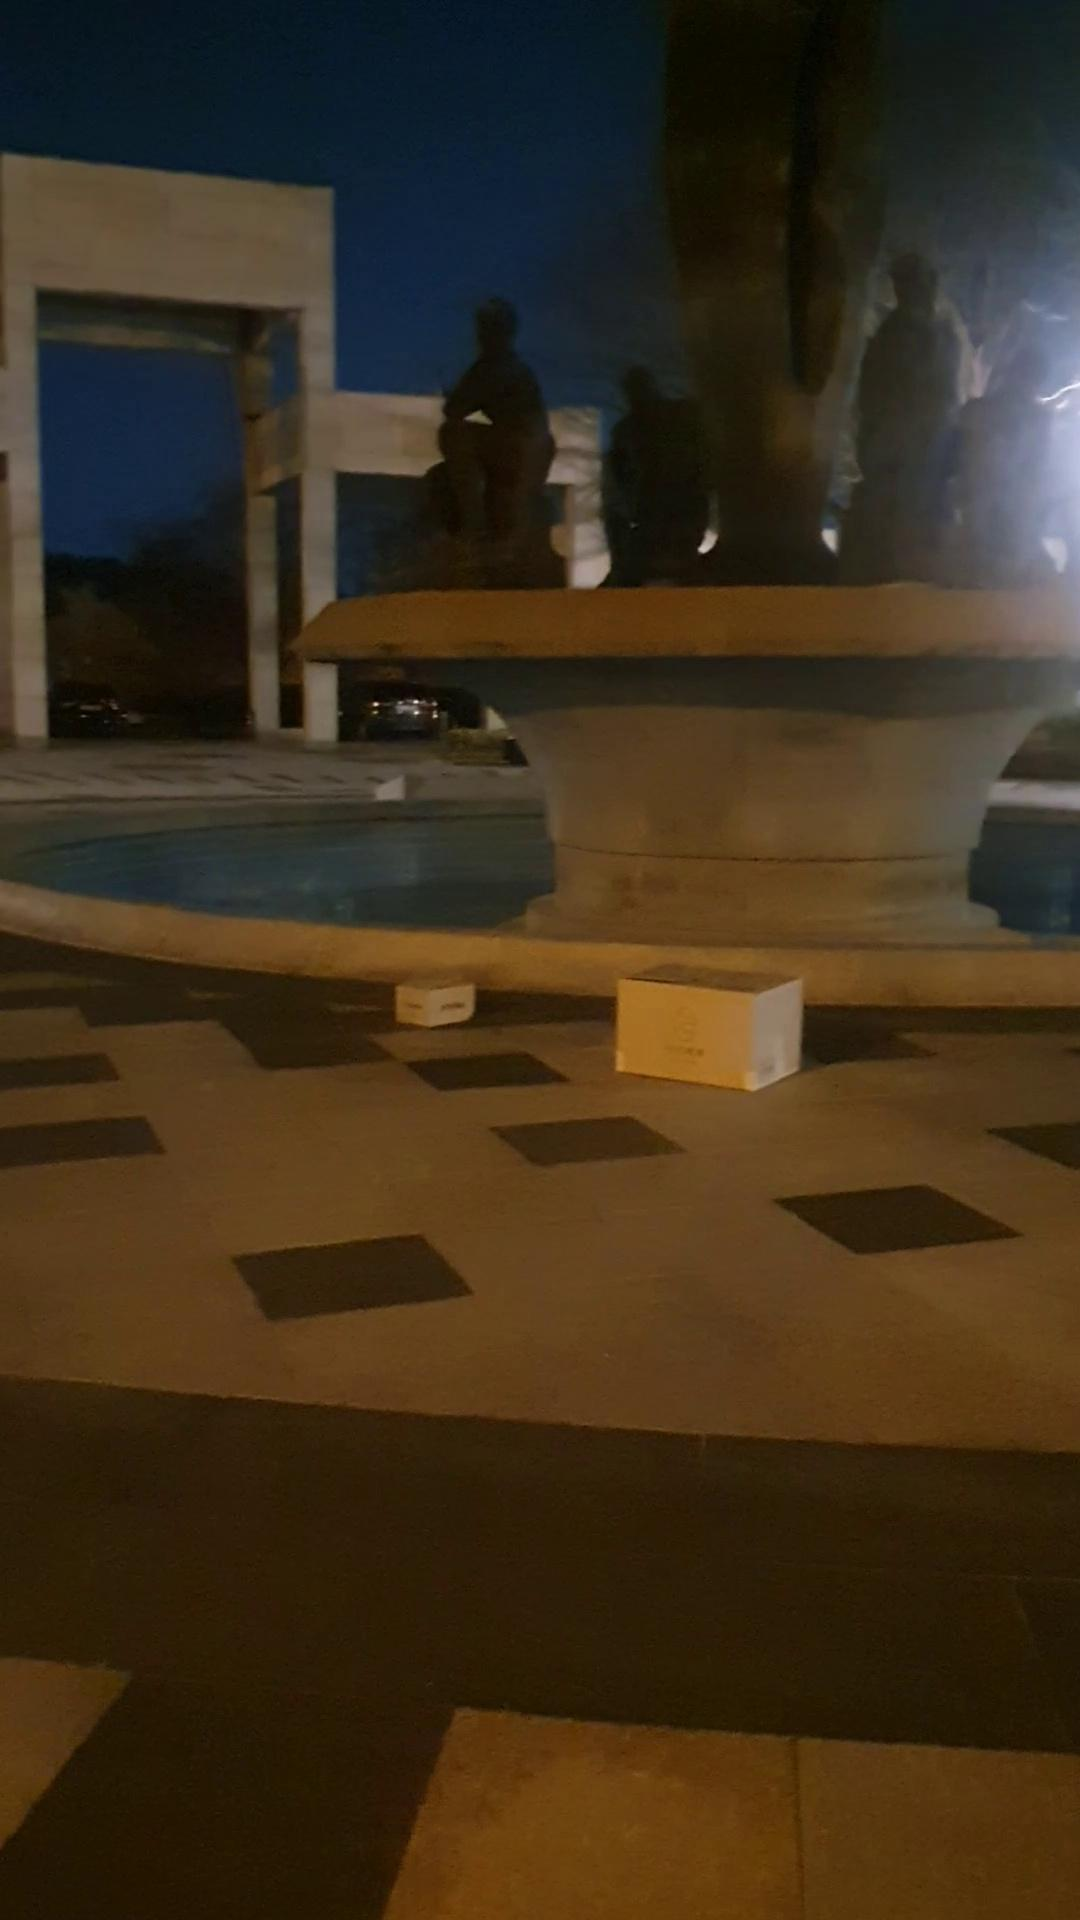Box: (607, 948, 812, 1088), (396, 965, 483, 1035)
